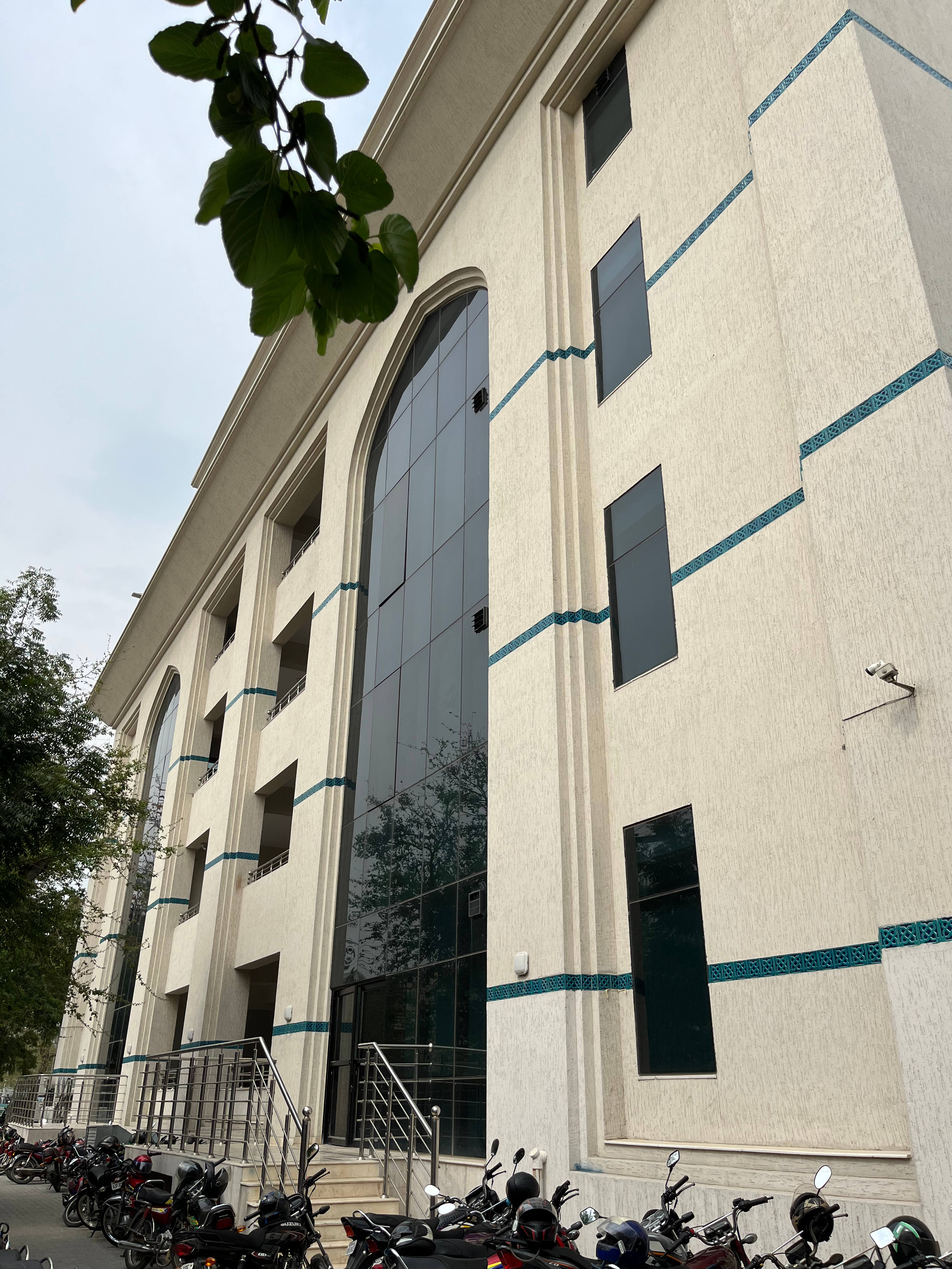Block F: (31, 4, 952, 1159)
